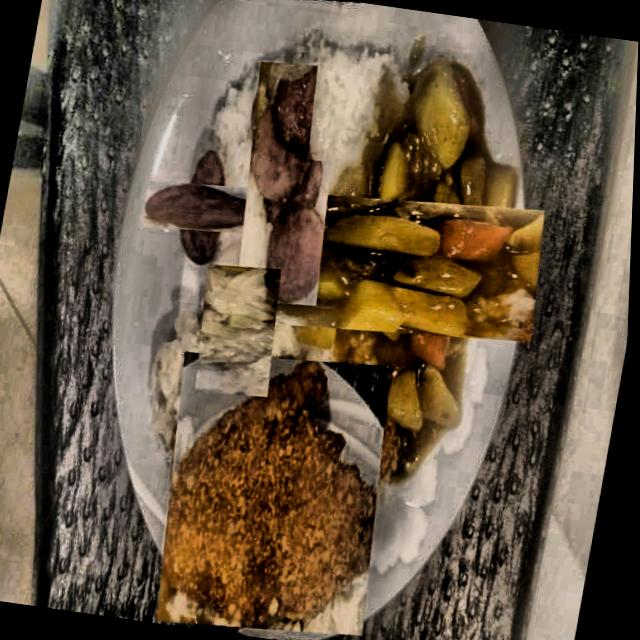Food: (140, 337, 413, 640), (287, 148, 532, 385), (219, 56, 358, 312), (177, 269, 303, 391), (301, 39, 382, 167), (154, 158, 254, 255)
